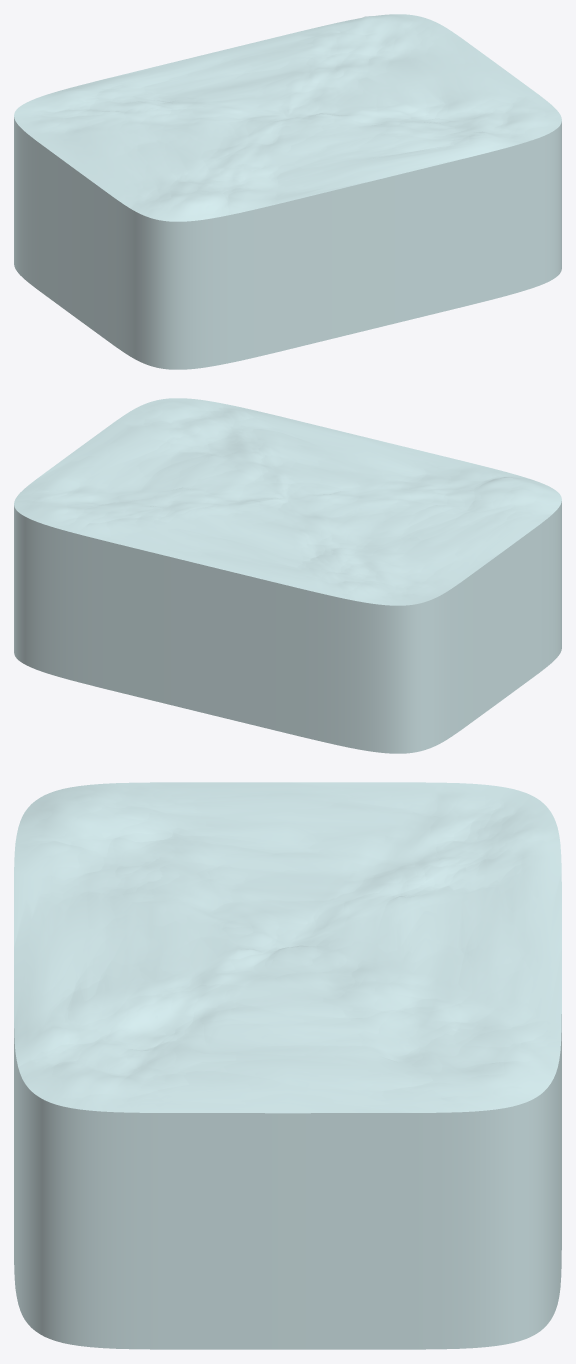
File: strata_hero.glb
3 views of the same model, one above another, from view 1: azimuth 30°, elevation 25°; view 2: azimuth 150°, elevation 25°; view 3: azimuth 270°, elevation 25° (orthographic). The views are drawn at different scales.
Visible parts, largest first — view 1: Stratum_00, Stratum_01, Stratum_06, Stratum_05, Stratum_03, Stratum_02, Stratum_04; view 2: Stratum_00, Stratum_01, Stratum_06, Stratum_05, Stratum_03, Stratum_02, Stratum_04; view 3: Stratum_00, Stratum_01, Stratum_06, Stratum_05, Stratum_03, Stratum_02, Stratum_04.
Boxes of the visible parts, x1,y1,x2,y2 form: Stratum_00: (14,27,561,369); Stratum_01: (14,22,561,368); Stratum_06: (28,15,537,207); Stratum_05: (32,15,555,192); Stratum_03: (28,14,556,221); Stratum_02: (14,24,561,215); Stratum_04: (14,21,561,221); Stratum_00: (14,403,561,753); Stratum_01: (14,401,561,752); Stratum_06: (14,403,550,600); Stratum_05: (14,403,518,596); Stratum_03: (14,399,561,604); Stratum_02: (21,399,549,601); Stratum_04: (24,398,561,605); Stratum_00: (14,782,561,1349); Stratum_01: (14,783,561,1348); Stratum_06: (17,782,558,1112); Stratum_05: (14,790,561,1112); Stratum_03: (14,783,561,1112); Stratum_02: (33,782,504,1112); Stratum_04: (14,783,561,1112).
Size of the model in its own units: 3 by 1.07 by 2.1.
